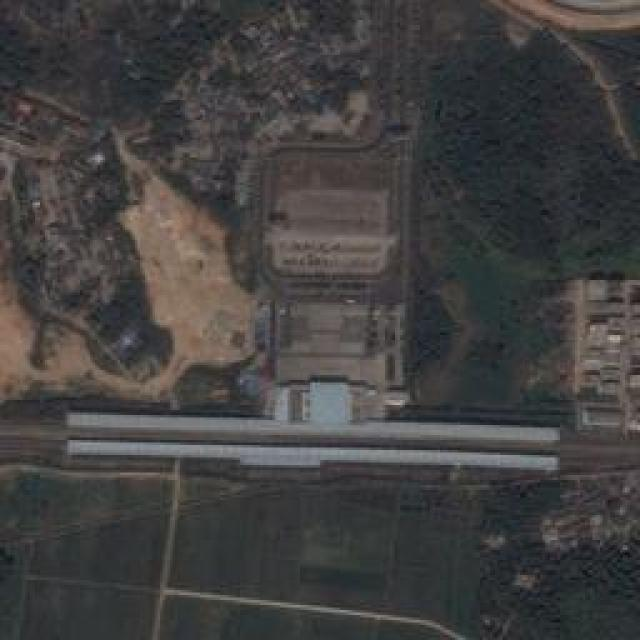Railway: (2, 401, 640, 495)
